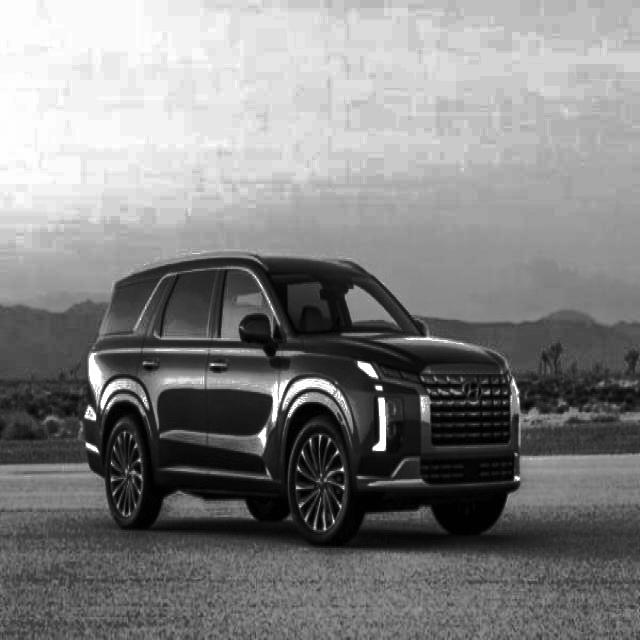Car: (78, 237, 553, 589)
